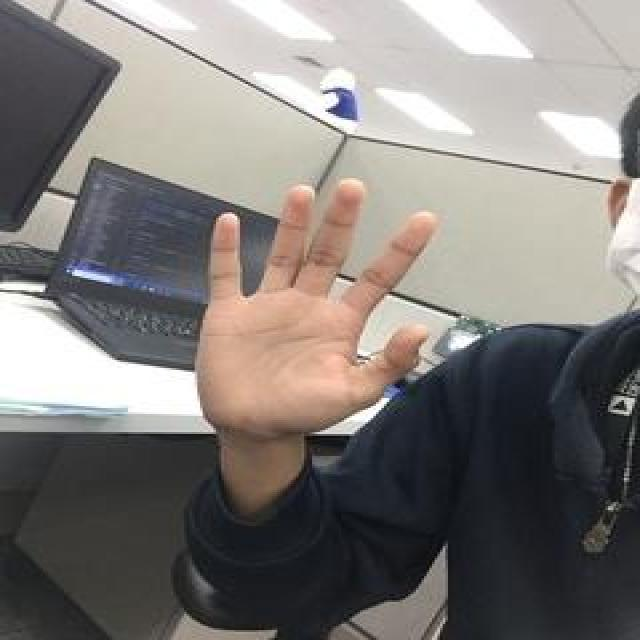no-gloves: (195, 177, 438, 439)
